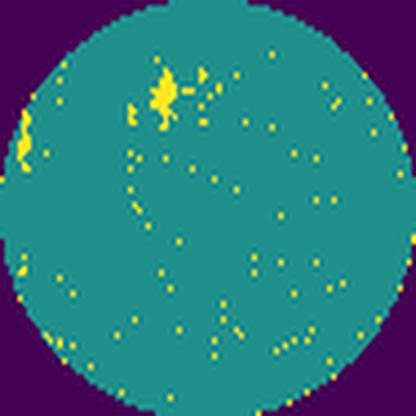Loc: (147, 59, 179, 132)
